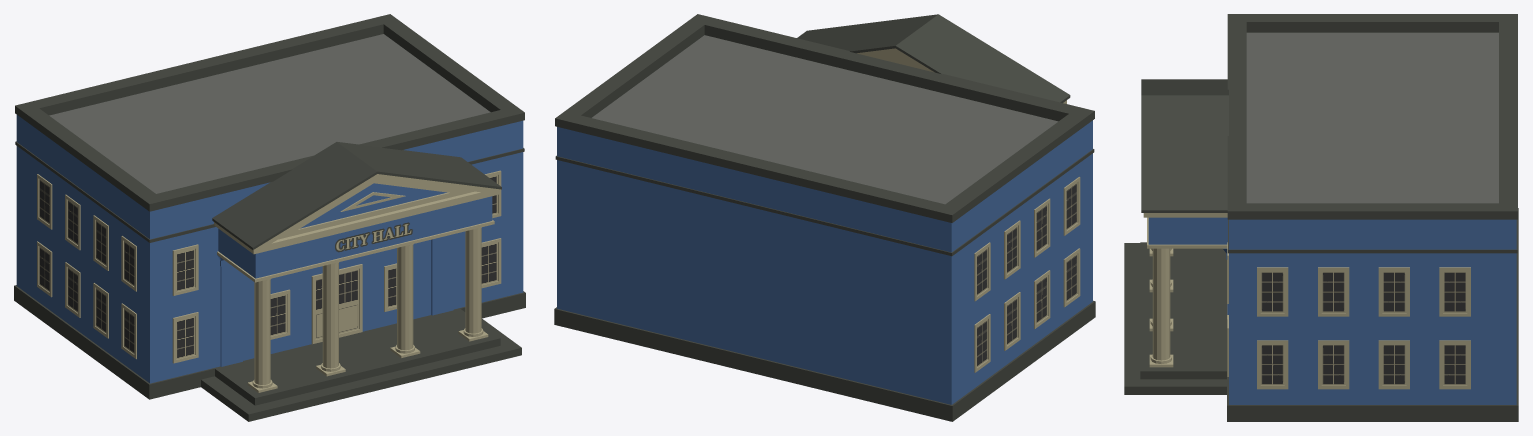
File: spb-city-hall.glb
3 views of the same model, side by side, from view 1: azimuth 30°, elevation 25°; view 2: azimuth 150°, elevation 25°; view 3: azimuth 270°, elevation 25° (orthographic). The views are drawn at different scales.
Parts seen in each view (by area): view 1: SPB_City Hall; view 2: SPB_City Hall; view 3: SPB_City Hall.
Part boxes in pixels (x1,y1,x2,y2): SPB_City Hall: [14, 14, 525, 421]; SPB_City Hall: [554, 14, 1095, 421]; SPB_City Hall: [1124, 14, 1518, 421].
Bounding box in the file's own units: 23.63 × 12.67 × 19.89.
1 material, 1 textured.
